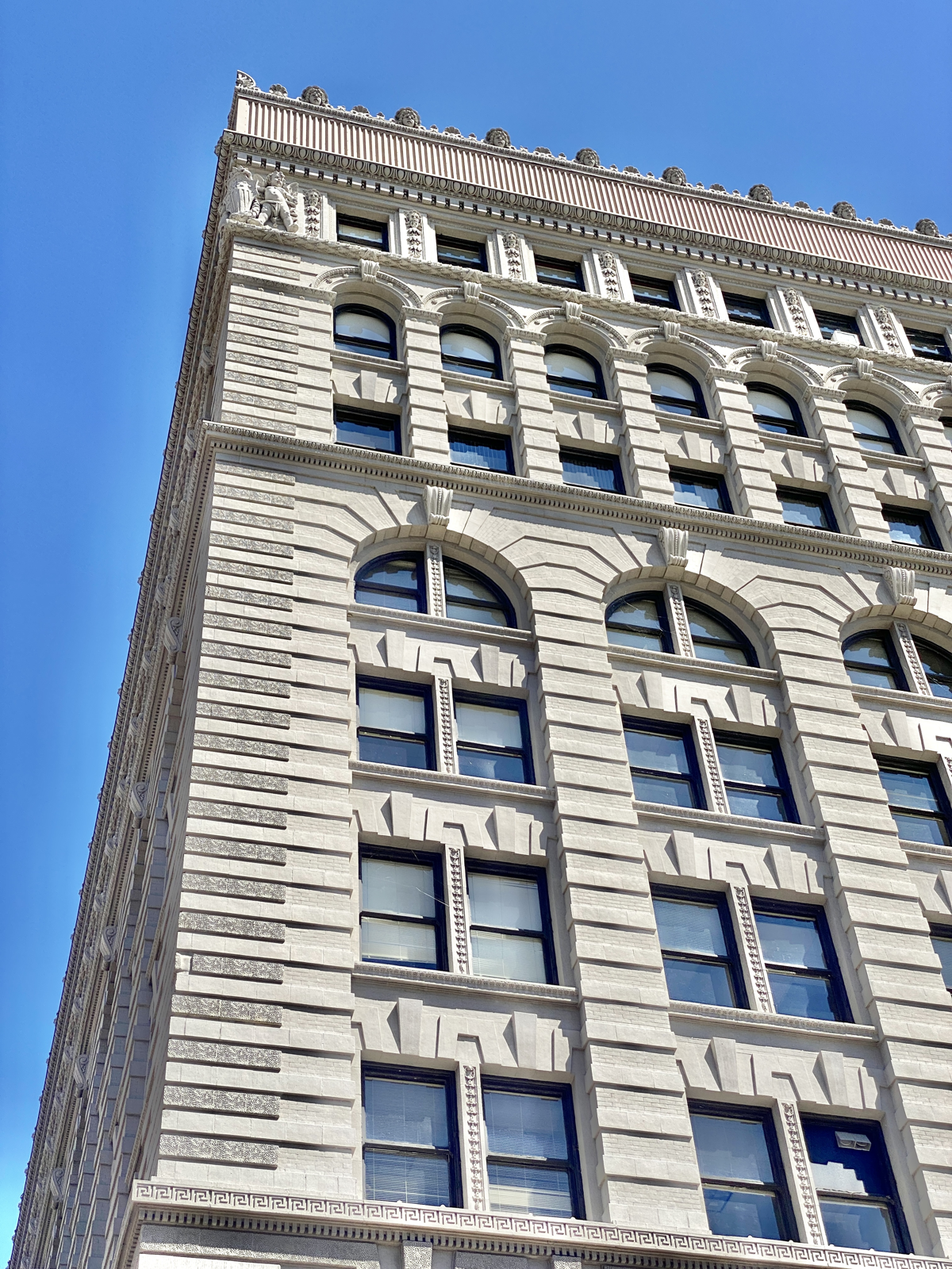fachada: (4, 44, 952, 1269)
